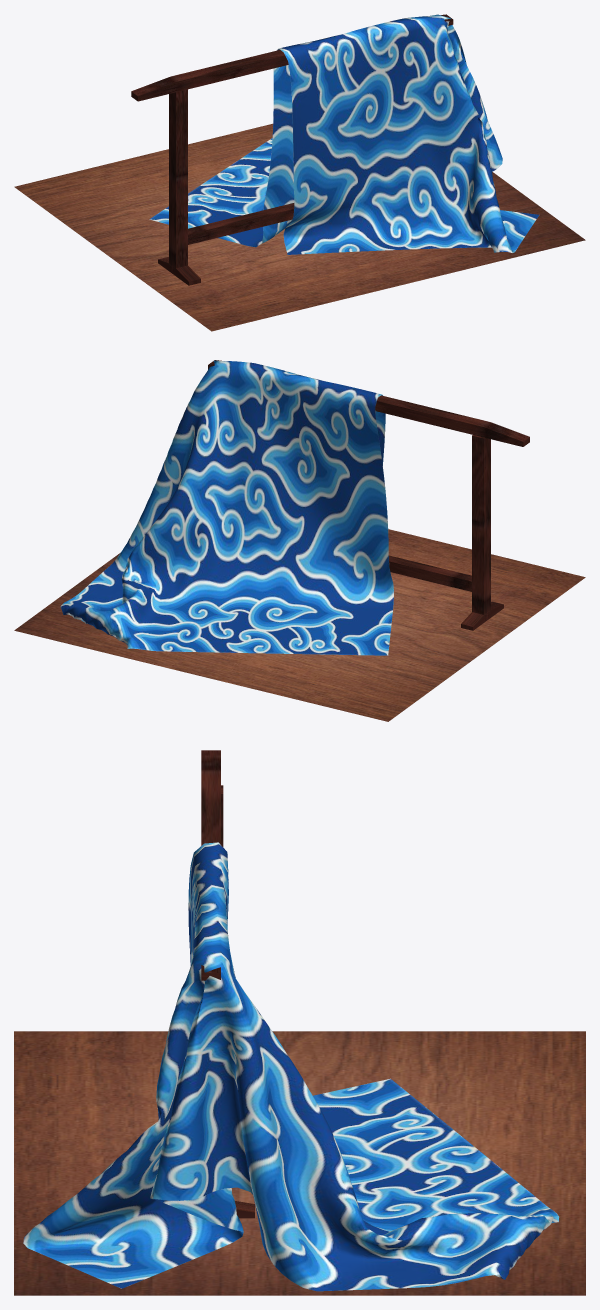
Rendered from batik_megamendung.glb.
3 views of the same model, one above another, from view 1: azimuth 30°, elevation 25°; view 2: azimuth 150°, elevation 25°; view 3: azimuth 270°, elevation 25° (orthographic). The views are drawn at different scales.
Parts seen in each view (by area): view 1: Object_3, Object_2, Object_4; view 2: Object_3, Object_2, Object_4; view 3: Object_3, Object_2, Object_4.
Part boxes in pixels (x1,y1,x2,y2): Object_3: (149, 14, 539, 254); Object_2: (14, 123, 585, 331); Object_4: (131, 14, 453, 285); Object_3: (60, 360, 393, 655); Object_2: (14, 529, 585, 721); Object_4: (208, 360, 529, 630); Object_3: (23, 842, 559, 1291); Object_2: (14, 1031, 585, 1295); Object_4: (201, 750, 254, 1218).
Bounding box in the file's own units: 37.6 × 18.63 × 33.59.
Materials: 3 (3 with a texture image).
